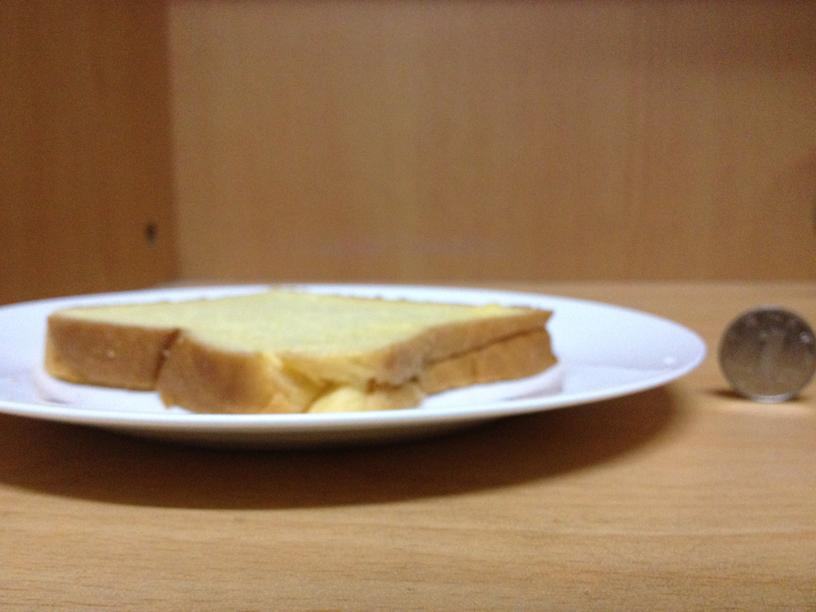bread: (39, 286, 556, 415)
coin: (715, 305, 814, 404)
